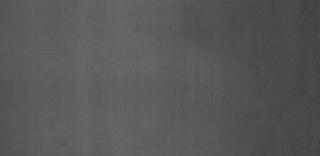oil spot: (103, 58, 199, 146)
